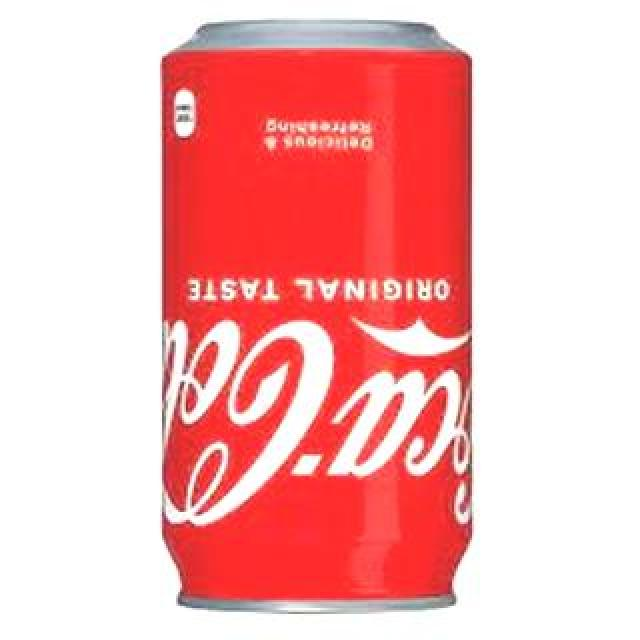Can: (156, 16, 480, 618)
